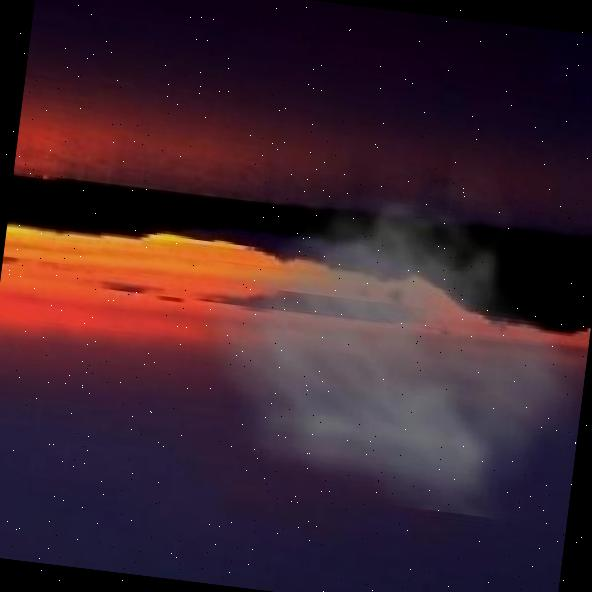smoke: (178, 160, 569, 524)
